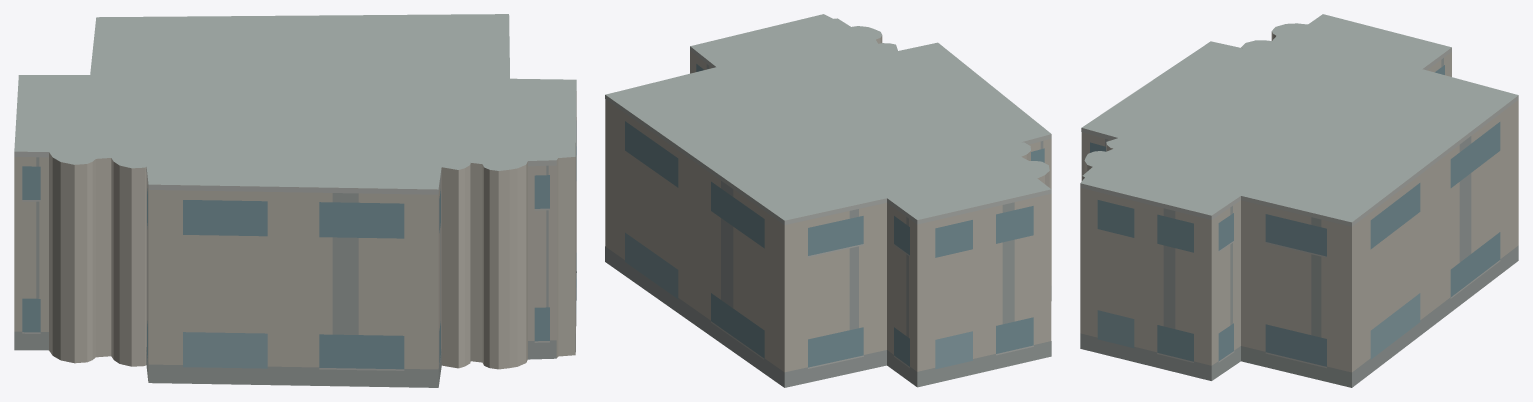
Rendered from survey-upis-32821695.glb.
3 views of the same model, side by side, from view 1: azimuth 30°, elevation 25°; view 2: azimuth 150°, elevation 25°; view 3: azimuth 270°, elevation 25° (orthographic). The views are drawn at different scales.
Parts seen in each view (by area): view 1: survey-upis-32821695.tmp; view 2: survey-upis-32821695.tmp; view 3: survey-upis-32821695.tmp.
Part boxes in pixels (<box>): survey-upis-32821695.tmp: <box>14,14,576,387</box>; survey-upis-32821695.tmp: <box>605,14,1051,387</box>; survey-upis-32821695.tmp: <box>1080,14,1518,387</box>.
Size of the model in its own units: 24.73 by 9.15 by 21.98.
